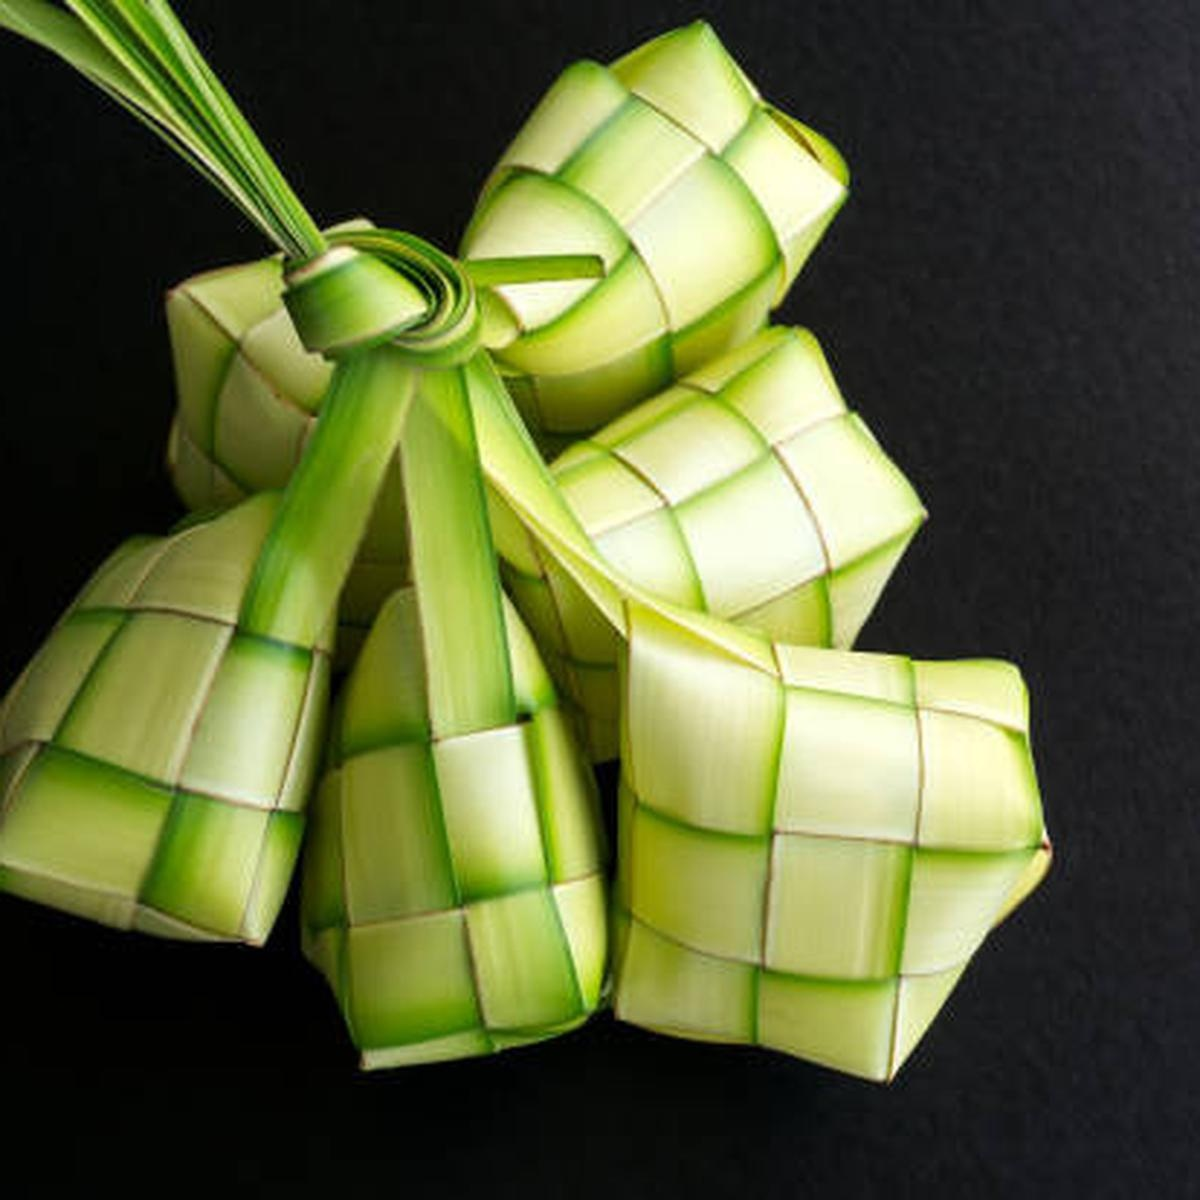ketupat: (599, 595, 1051, 1085)
